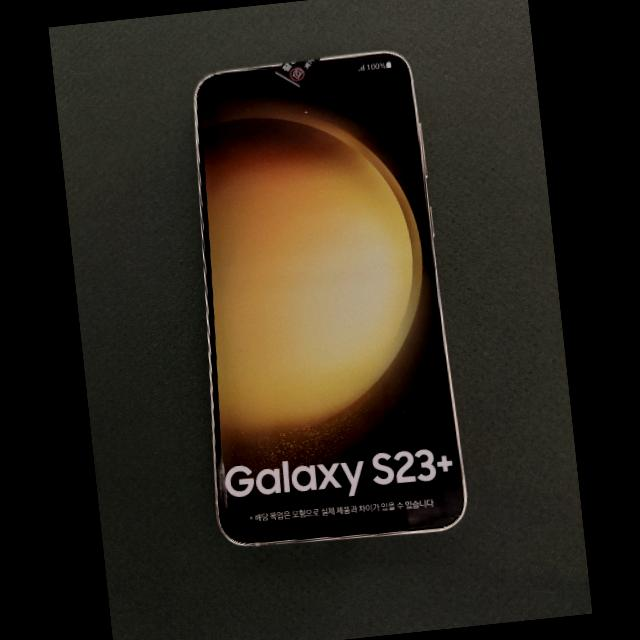phone: (192, 51, 467, 545)
sticker: (273, 58, 320, 91)
